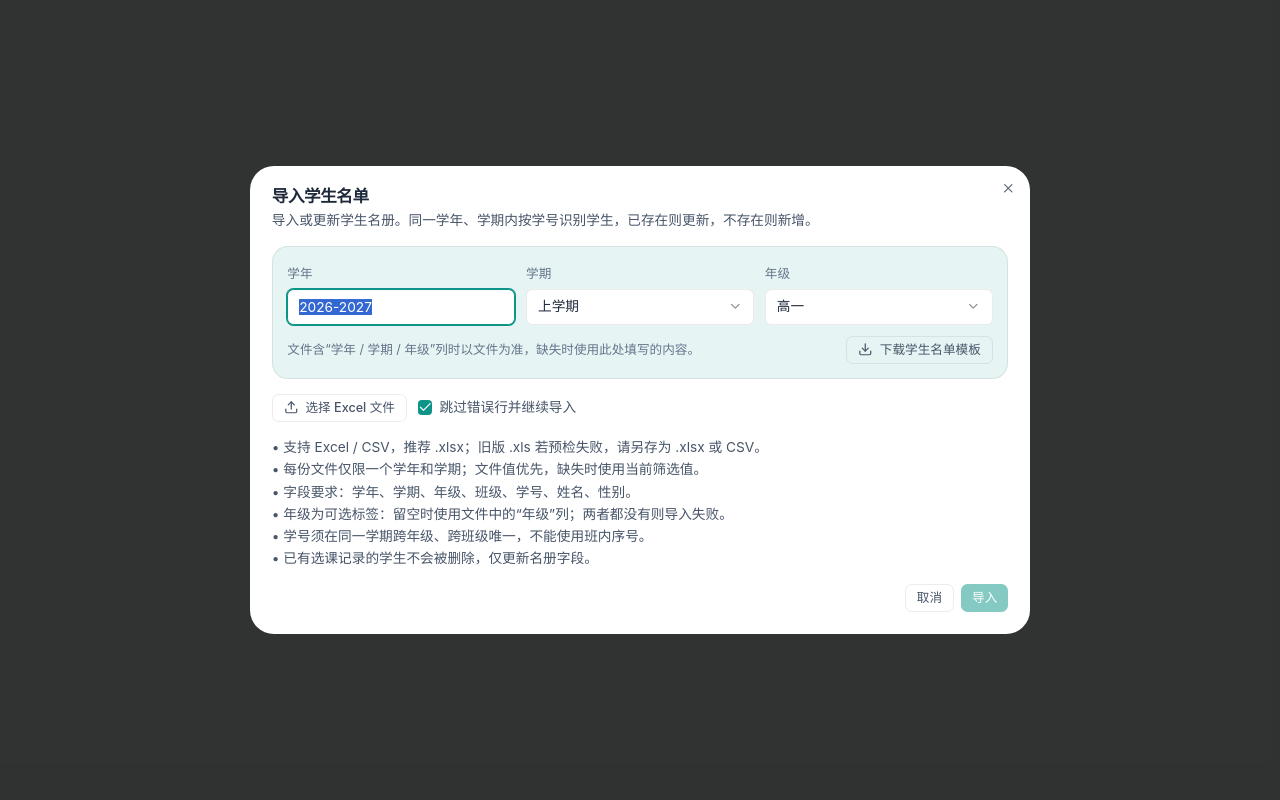
Test: XBK import year / term / grade drafts › normalizes a bare 4-digit year on blur
This screenshot has width=1280, height=800.
Replace the text in the field labelled "学年" with "2030" at [401, 307], box [287, 289, 515, 325]
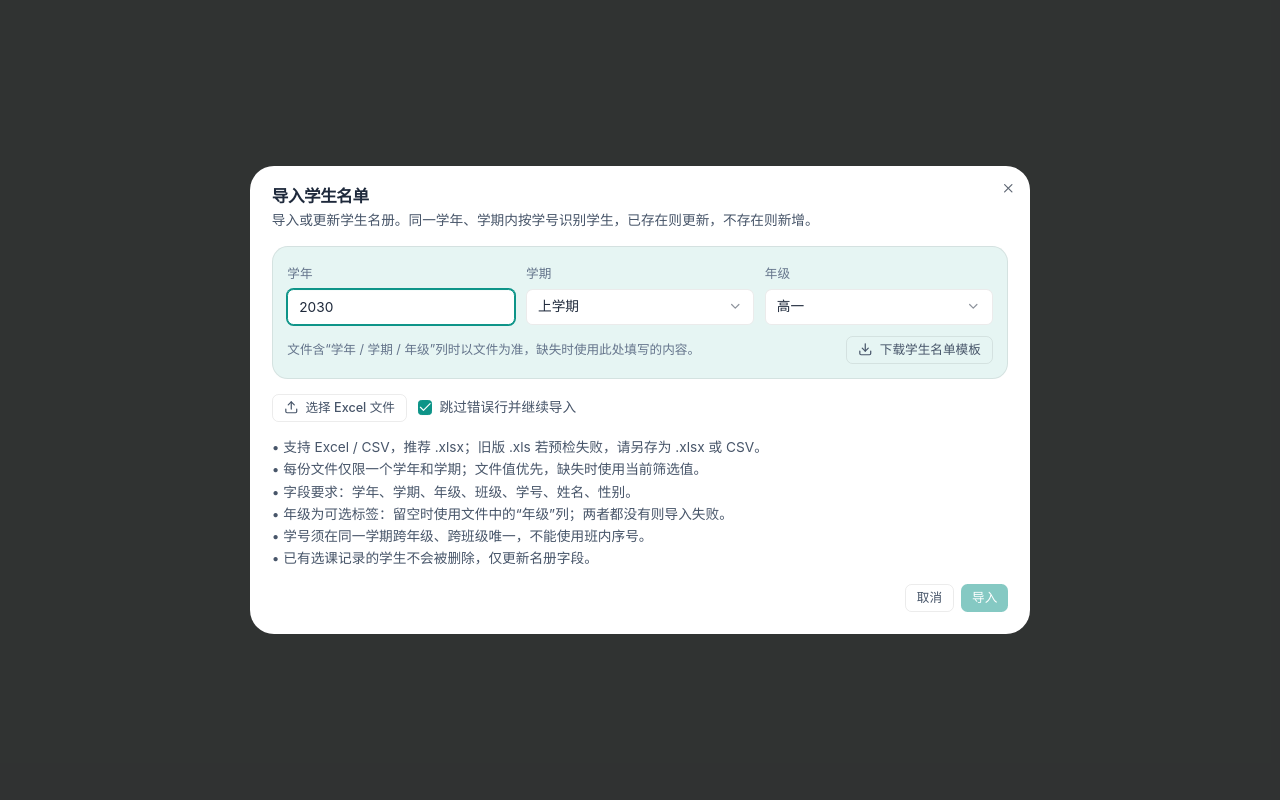
Leave the field labelled "学年", box [287, 289, 515, 325]
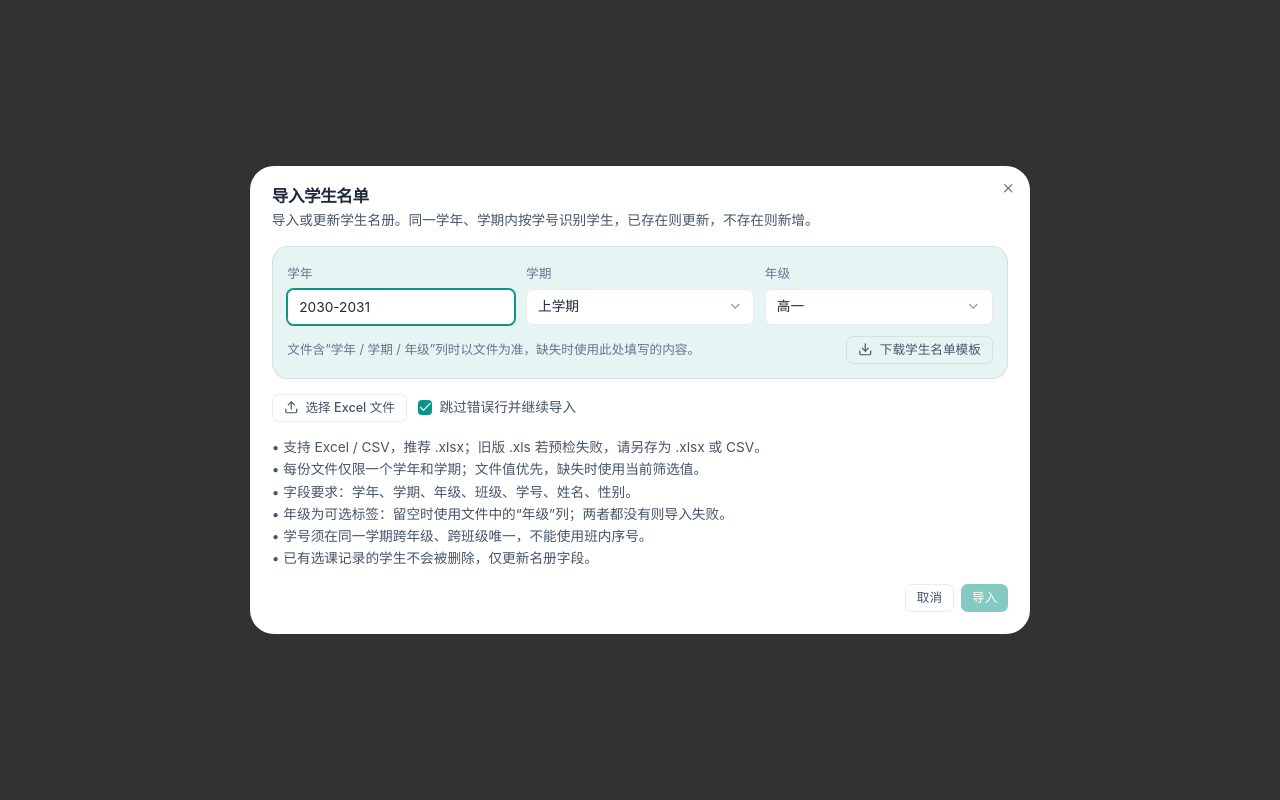
Now the field labelled "学年" holds "2030-2031", box [287, 289, 515, 325]
